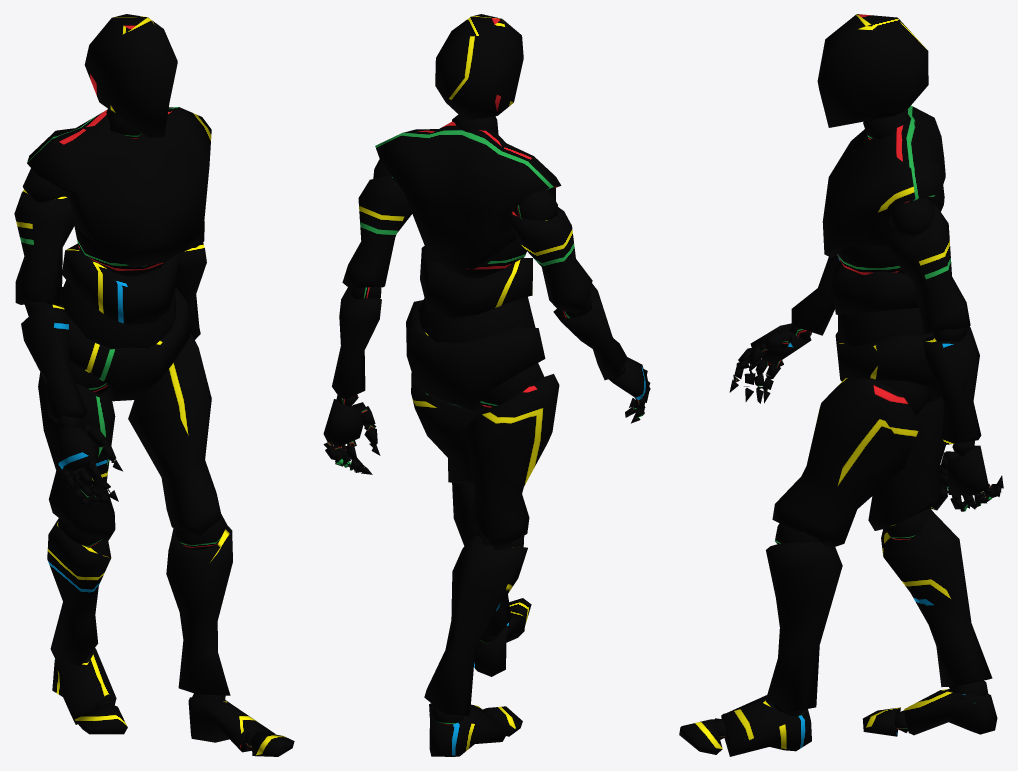
The model's file is y-bot-origin_000016.obj.
3 renders of one model, left to right at view 1: azimuth 30°, elevation 25°; view 2: azimuth 150°, elevation 25°; view 3: azimuth 270°, elevation 25°, orthographic. The views are drawn at different scales.
Parts seen in each view (by area): view 1: Alpha_Surface_Alpha_SurfaceMesh, Alpha_Joints_Alpha_JointsMesh; view 2: Alpha_Surface_Alpha_SurfaceMesh, Alpha_Joints_Alpha_JointsMesh; view 3: Alpha_Surface_Alpha_SurfaceMesh, Alpha_Joints_Alpha_JointsMesh.
Boxes of the visible parts, x1,y1,x2,y2 form: Alpha_Surface_Alpha_SurfaceMesh: (14,14,294,756); Alpha_Joints_Alpha_JointsMesh: (22,109,256,750); Alpha_Surface_Alpha_SurfaceMesh: (323,14,650,756); Alpha_Joints_Alpha_JointsMesh: (323,114,650,725); Alpha_Surface_Alpha_SurfaceMesh: (679,14,1003,756); Alpha_Joints_Alpha_JointsMesh: (714,111,1001,739).
Size of the model in its own units: 0.5962 by 1.78 by 0.7232.
